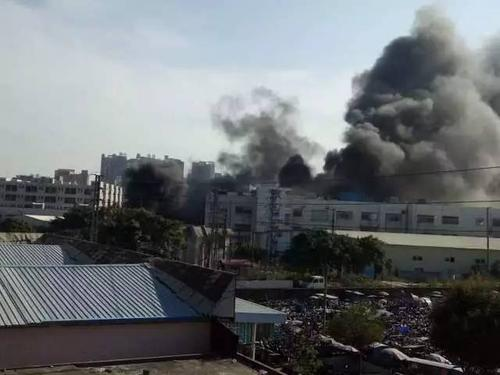smoke: (323, 12, 496, 195)
